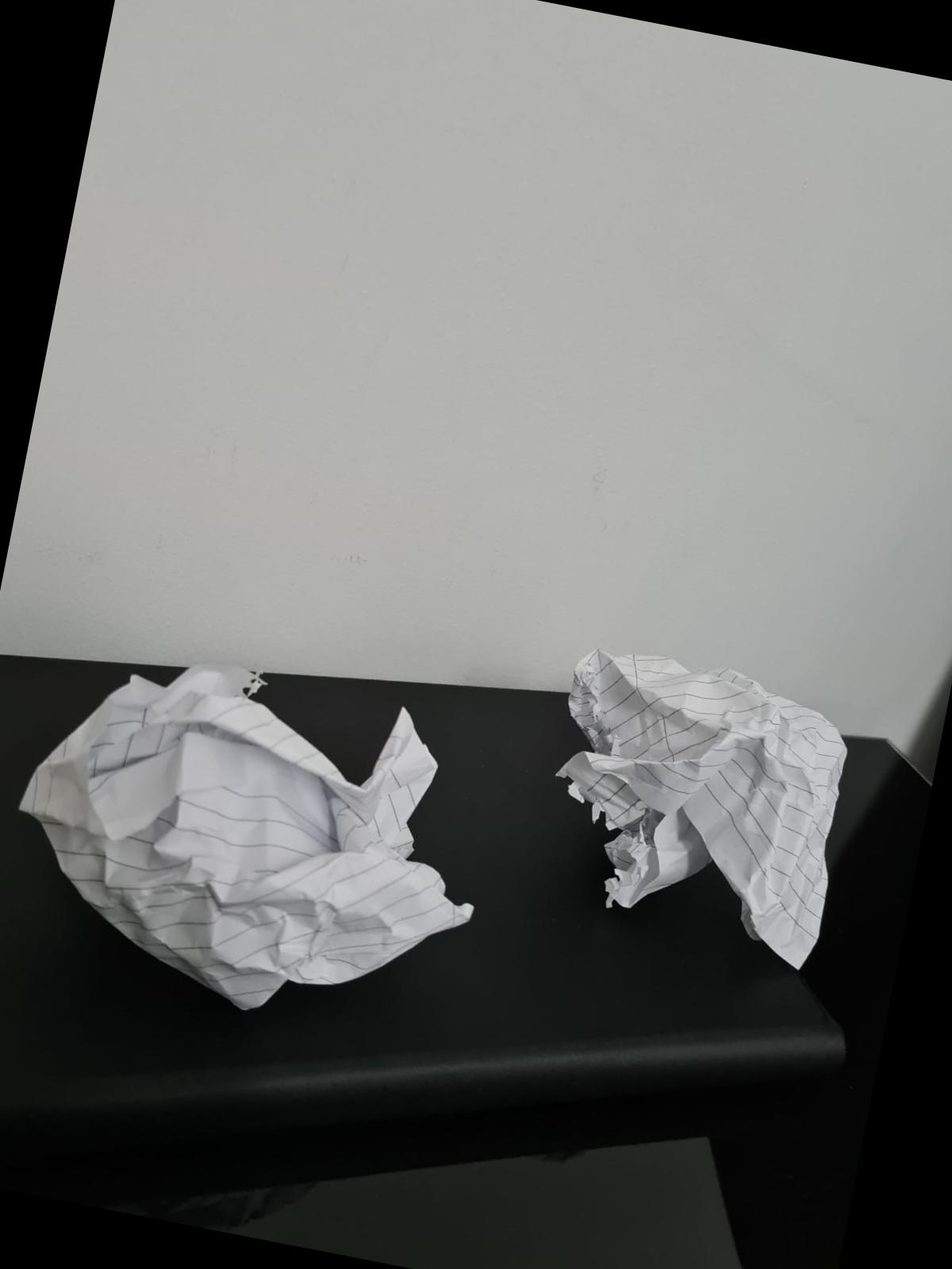Kertas: (20, 665, 471, 1008), (560, 650, 844, 964)
